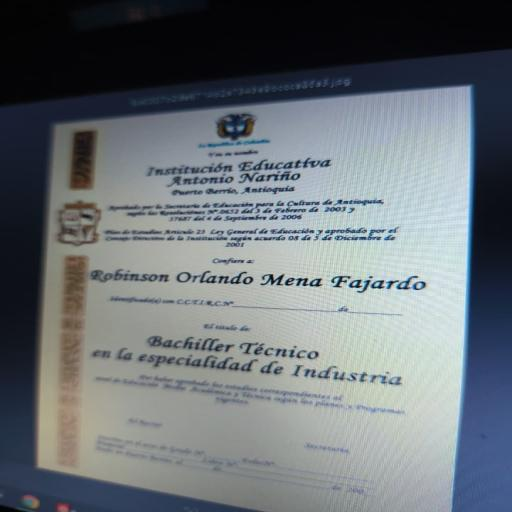diploma: (36, 88, 472, 512)
institucion: (128, 151, 408, 189)
nombre: (81, 257, 434, 305)
